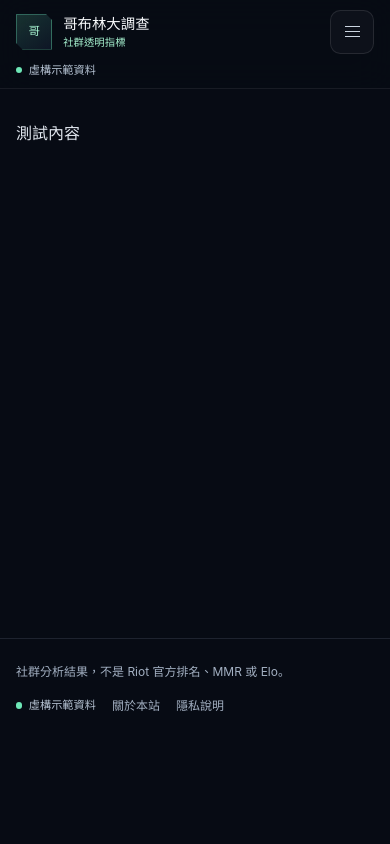
Test: V1 presentation and accessibility › mobile links close menu and move focus to main on navigation
Click the button with class "mobile-menu-toggle".
click(352, 32)  # box [330, 10, 374, 54]
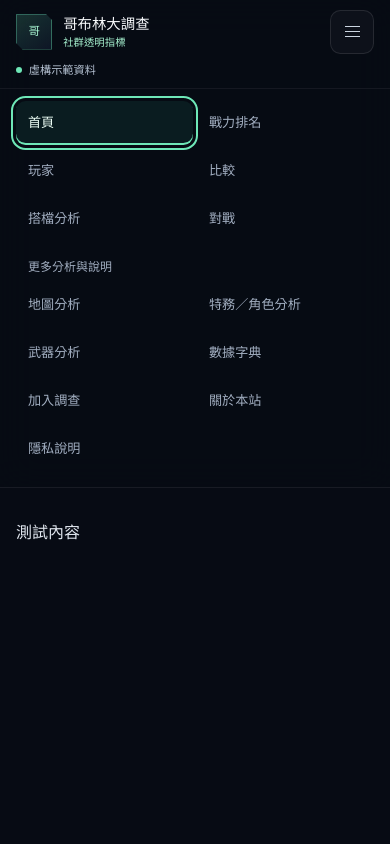
Click the link to "/leaderboard".
click(235, 122)  # box [209, 114, 262, 130]
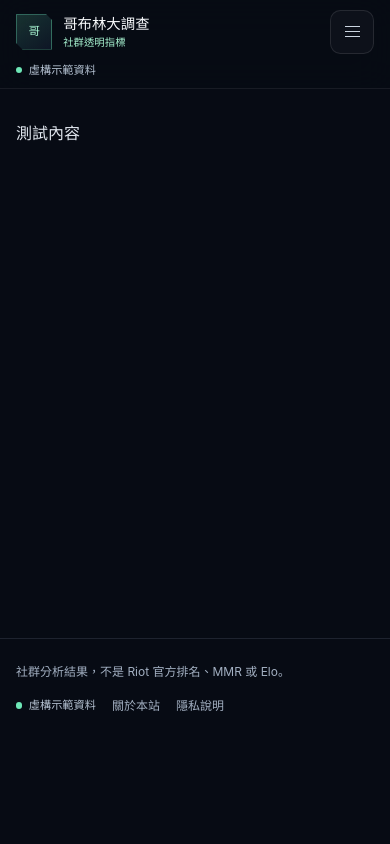
Expected: the navigation bar with id "mobile-navigation" is gone
